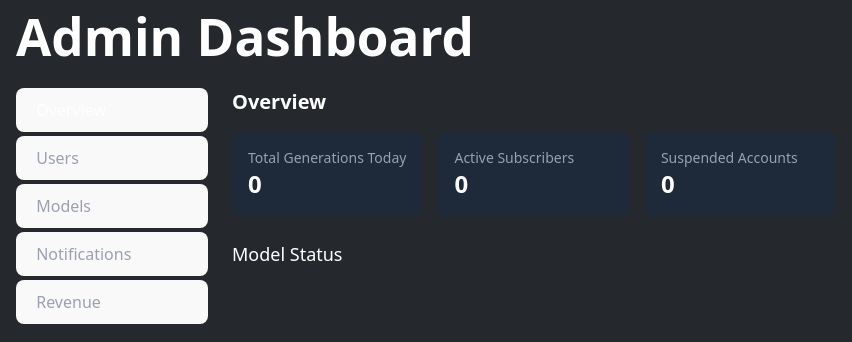
it: AdminLayout › switches active section when clicking a nav item
The width and height of the screenshot is (852, 342).
Expected: the heading "Overview" is shown, [232, 88, 326, 115]
// Click Users nav
Click the button "Users" at (112,158), box [16, 136, 208, 180]
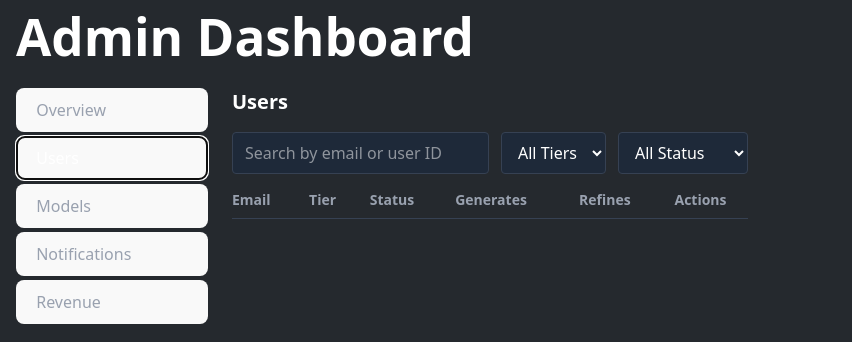
Expected: the heading "Users" is shown, [232, 88, 288, 115]
// Click Models nav
Click the button "Models" at (112,206), box [16, 184, 208, 228]
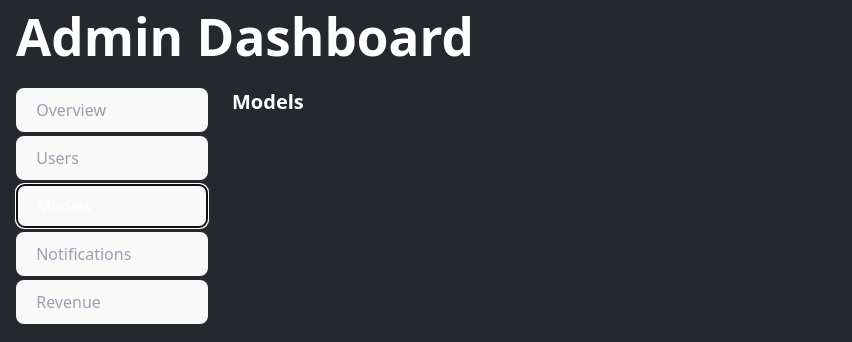
Expected: the heading "Models" is shown, [232, 88, 304, 115]
// Click Revenue nav
Click the button "Revenue" at (112,302), box [16, 280, 208, 324]
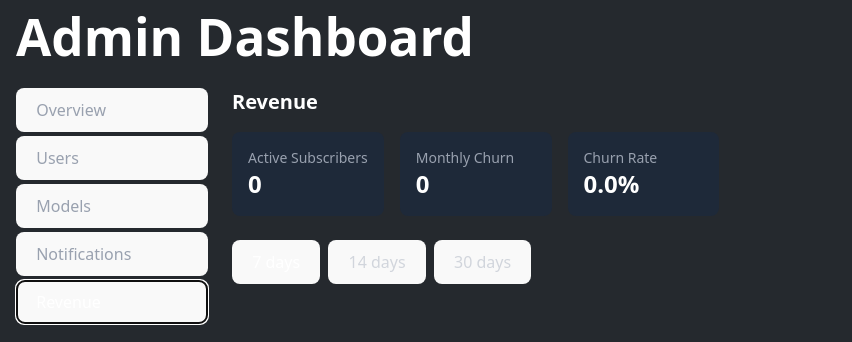
Expected: the heading "Revenue" is shown, [232, 88, 318, 115]
